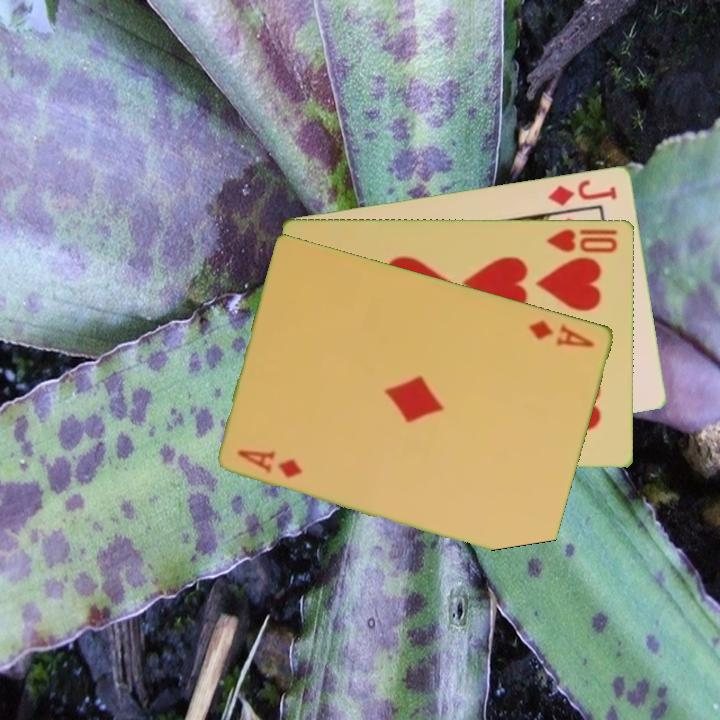10h: (543, 225, 620, 256)
Ad: (234, 445, 306, 481), (526, 315, 598, 350)
Jd: (544, 176, 620, 208)
